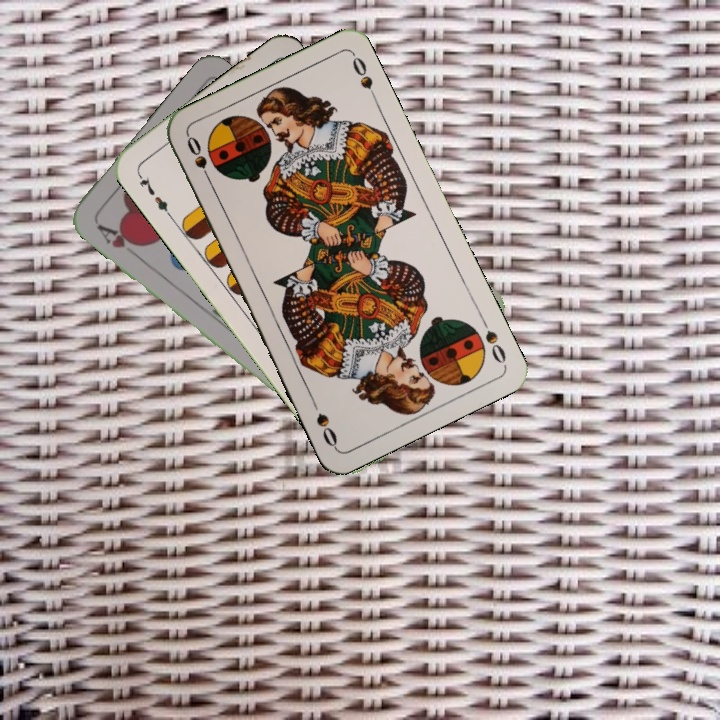E7: (133, 168, 174, 220)
HA: (93, 220, 144, 261)
SO: (183, 132, 216, 188), (476, 312, 509, 366)
